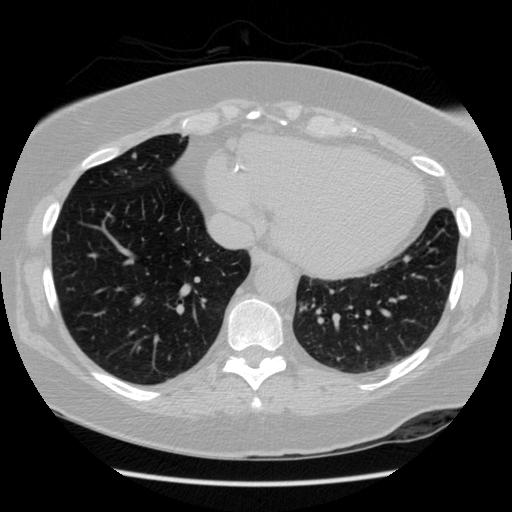nodule: (129, 151, 139, 161)
